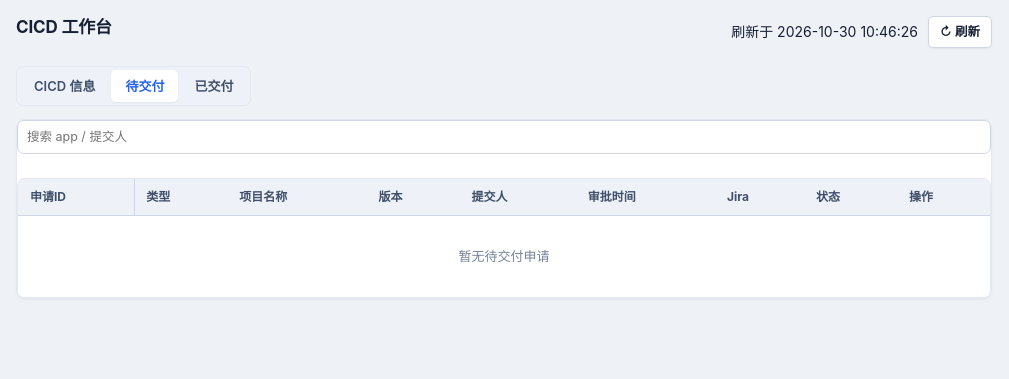
Test: CicdPage › SPD role: sees CICD 信息, 待交付 and 已交付 panes
Expected: the button "待交付" is shown, top-left (111, 70), bottom-right (178, 102)
Expected: the button "已交付" is shown, top-left (180, 70), bottom-right (247, 102)
Click the button "CICD 信息".
click(65, 86)  # box top-left (20, 70), bottom-right (109, 102)
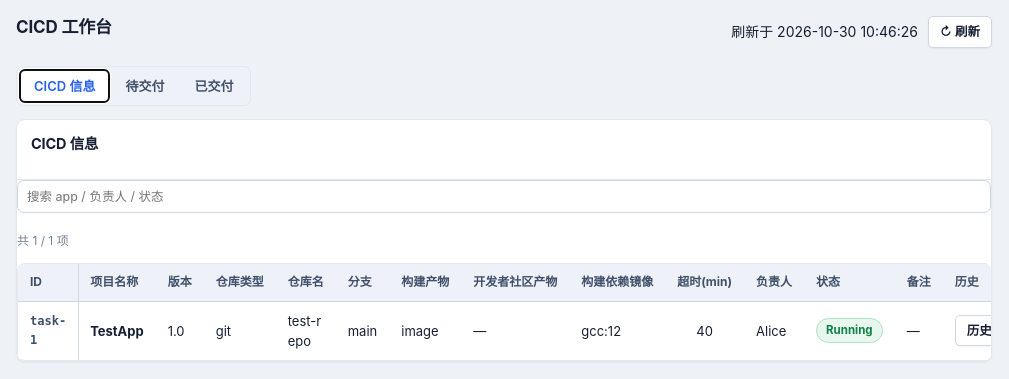
Expected: the text "TestApp" is shown, top-left (90, 323), bottom-right (144, 339)
